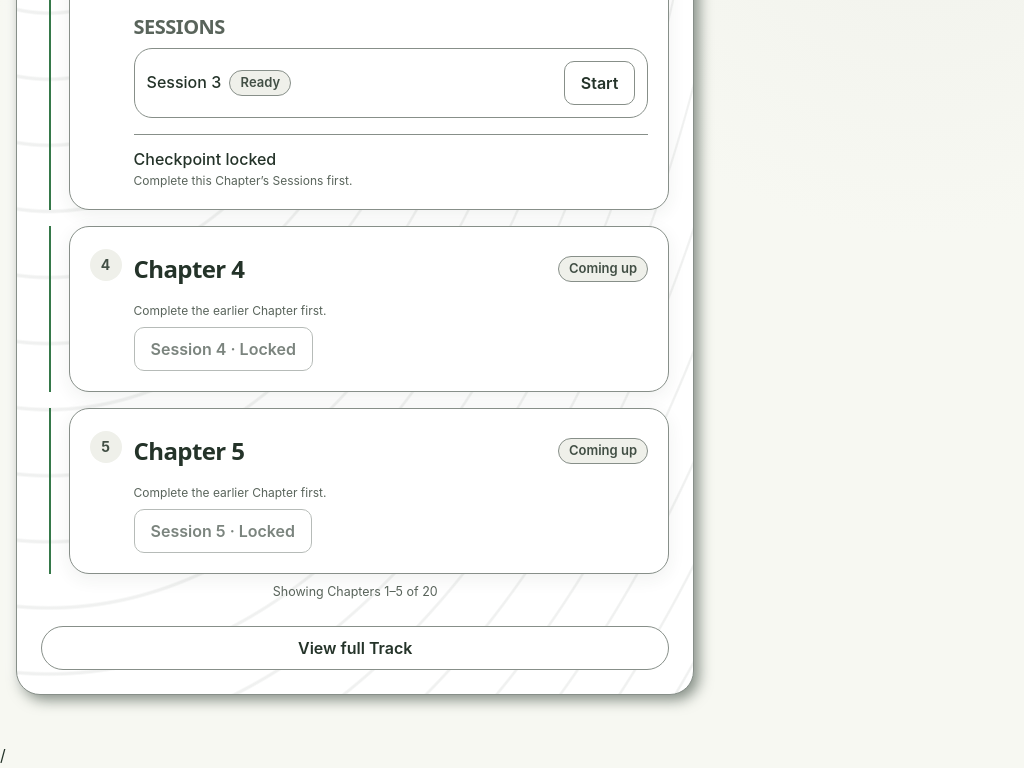
Test: Trail theme parity › living-atlas exposes every Chapter and the progress details in separate sheets
(page scrolled)
Click the button "View full Track" at (355, 648), box top-left (41, 626), bottom-right (669, 670)
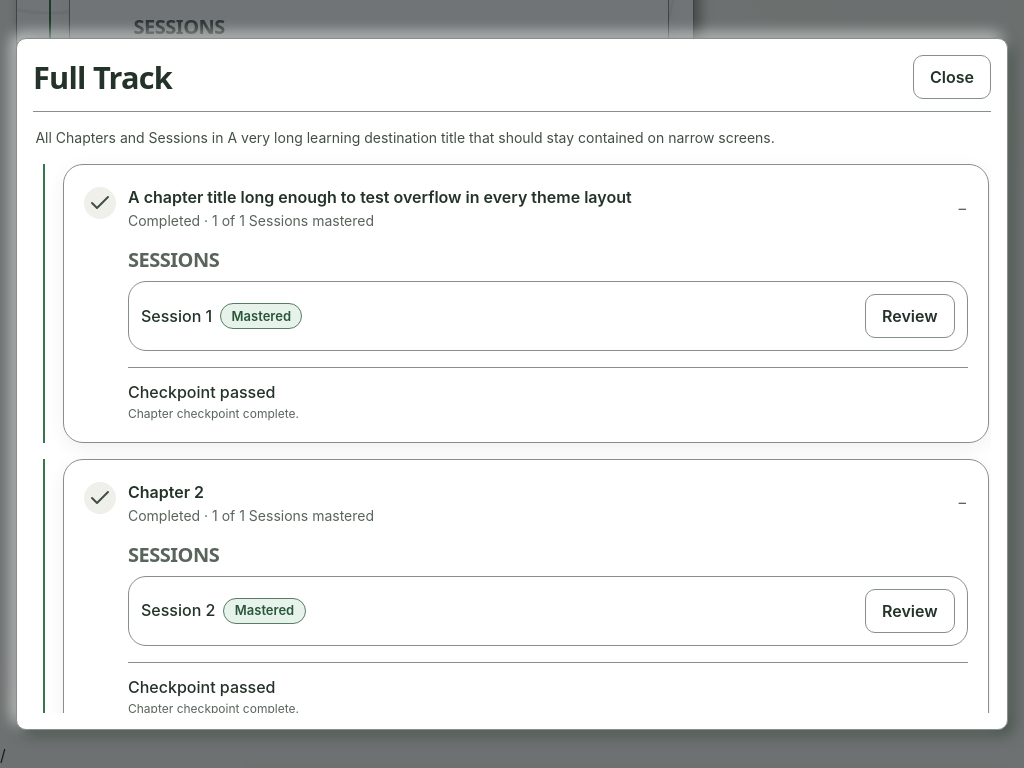
Check: the number of elements "chapter" is 20
Check: the number of lists named "sessions in" is 20
Click the button "Close" at (952, 77), box top-left (913, 55), bottom-right (991, 99)
(page scrolled)
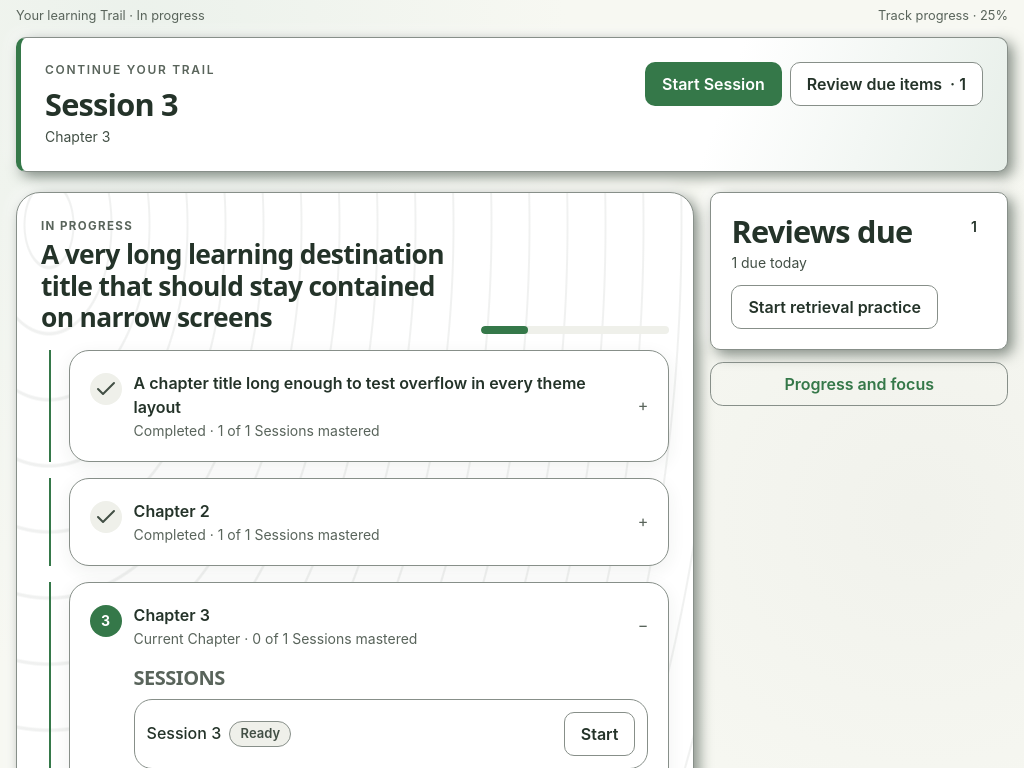
Click the button "Progress and focus" at (859, 384), box top-left (710, 362), bottom-right (1008, 406)
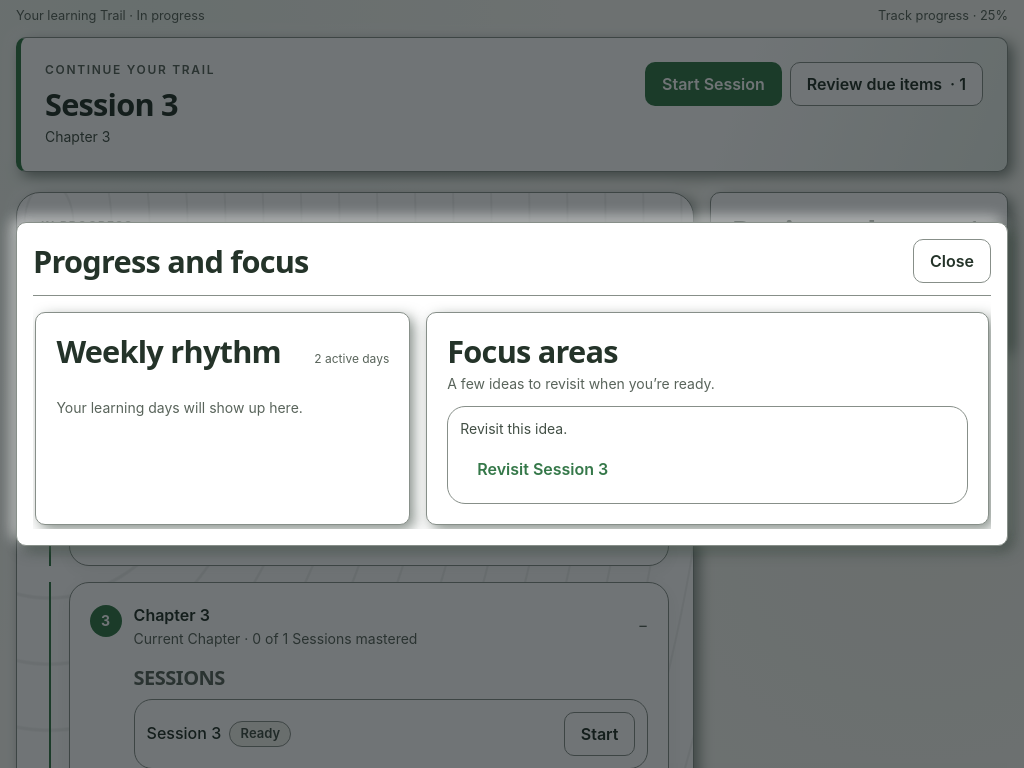
Check: the element "Weekly rhythm" is shown, box top-left (35, 312), bottom-right (410, 525)
Check: the element "Focus areas" is shown, box top-left (426, 312), bottom-right (989, 525)
